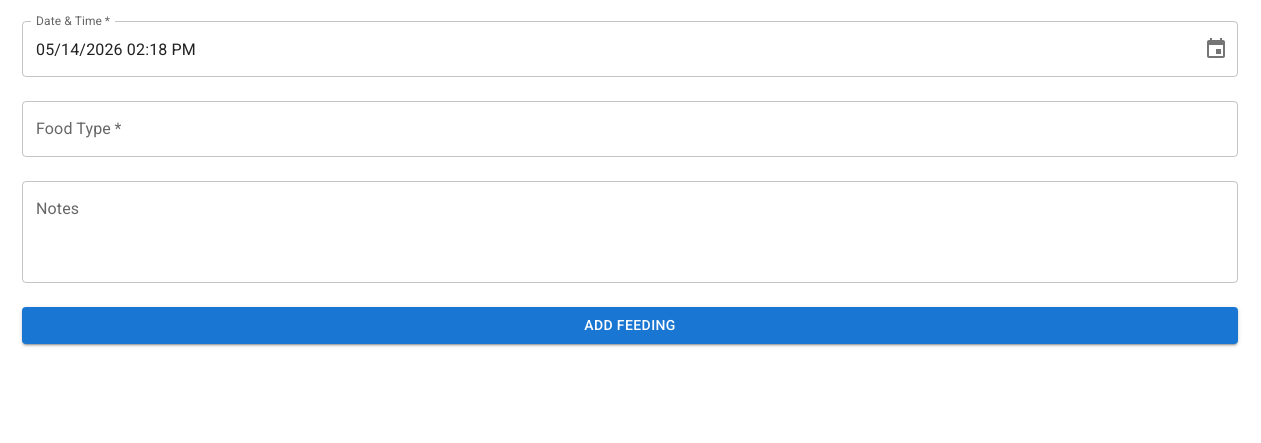
Test: FeedingForm › handles submission error
The width and height of the screenshot is (1261, 443).
Type "Kibble" into the field labelled "Food Type *" at (630, 129), box [22,101,1238,157]
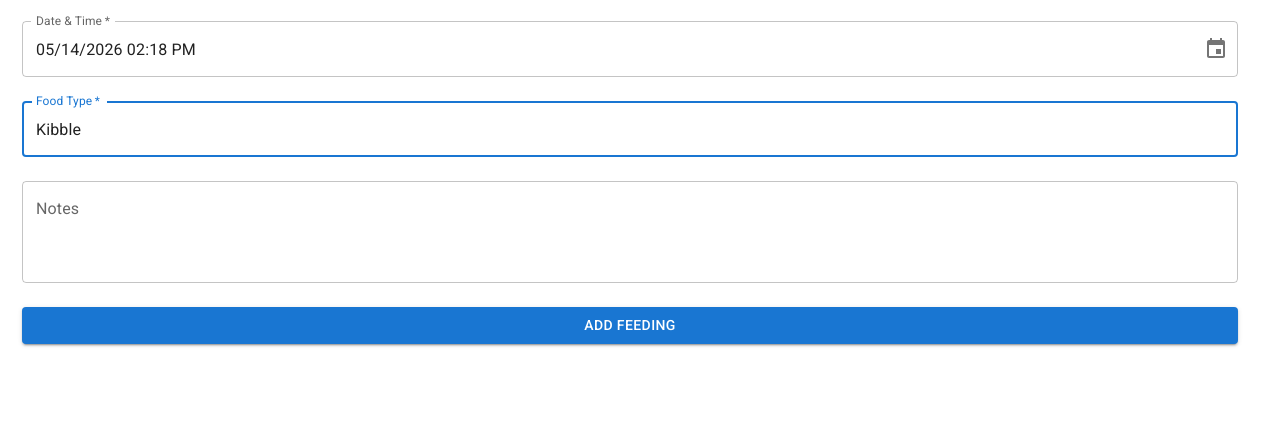
Click the button "Add Feeding" at (630, 325), box [22,307,1238,344]
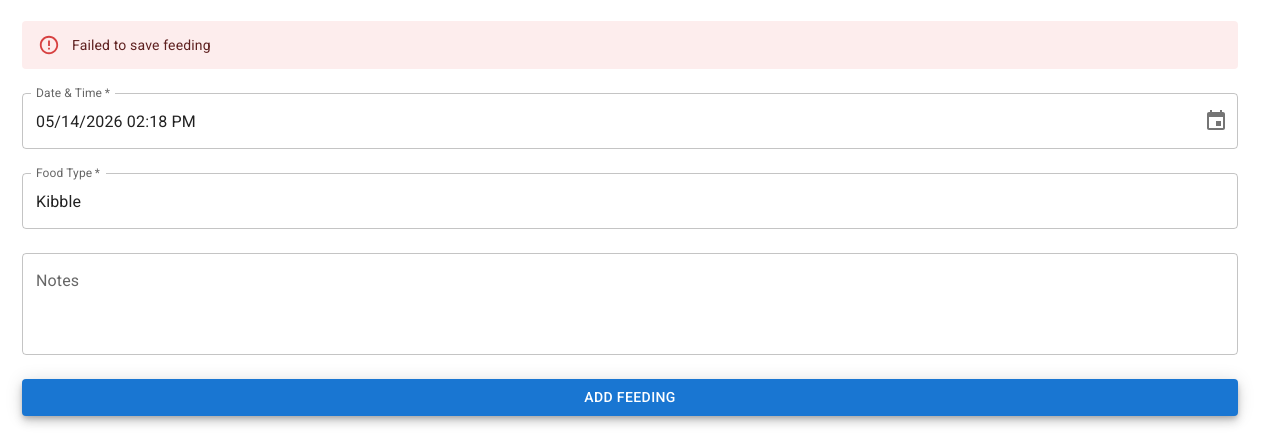
Result: the text "Failed to save feeding" is shown at [72,37,211,53]
